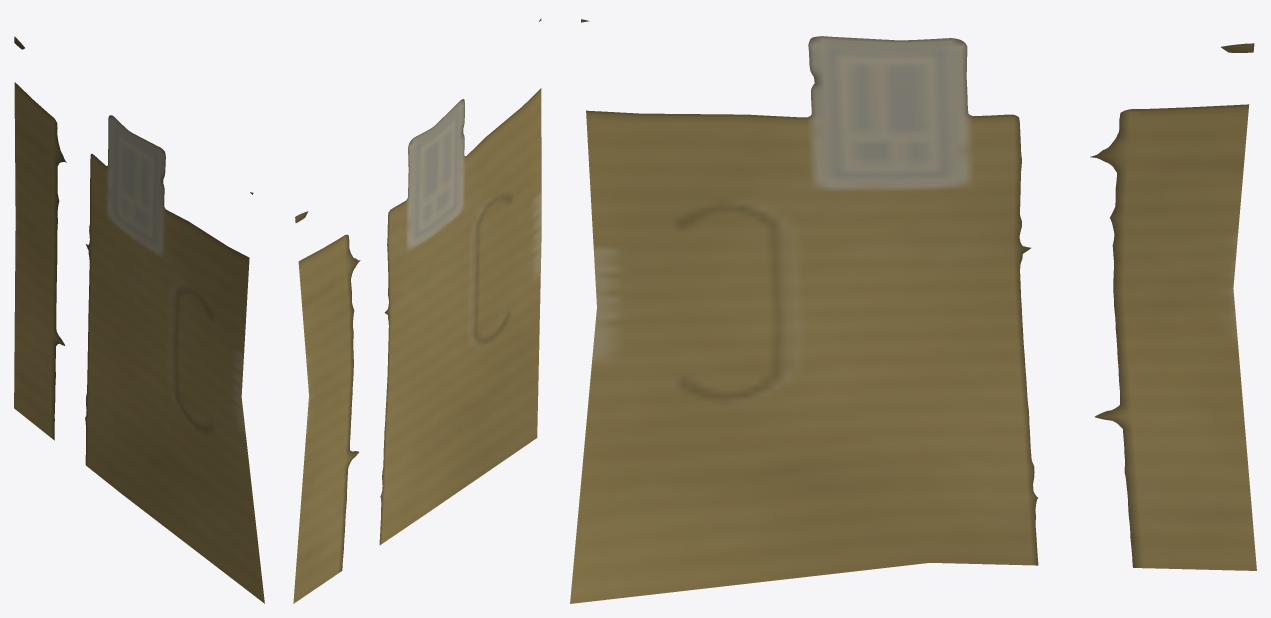
The model's file is p_mesh_smallbox_part02.fbx.
The picture shows the model from 3 angles, left to right: view 1: azimuth 30°, elevation 25°; view 2: azimuth 150°, elevation 25°; view 3: azimuth 270°, elevation 25°; orthographic projection. The views are drawn at different scales.
Parts seen in each view (by area): view 1: p_mesh_containers_onionbox_part02; view 2: p_mesh_containers_onionbox_part02; view 3: p_mesh_containers_onionbox_part02.
Part boxes in pixels (left/top/right/bottom): p_mesh_containers_onionbox_part02: left=14, top=36, right=264, bottom=603; p_mesh_containers_onionbox_part02: left=293, top=18, right=541, bottom=603; p_mesh_containers_onionbox_part02: left=570, top=19, right=1256, bottom=603.
Size of the model in its own units: 0.0924 by 2.1 by 2.24.
